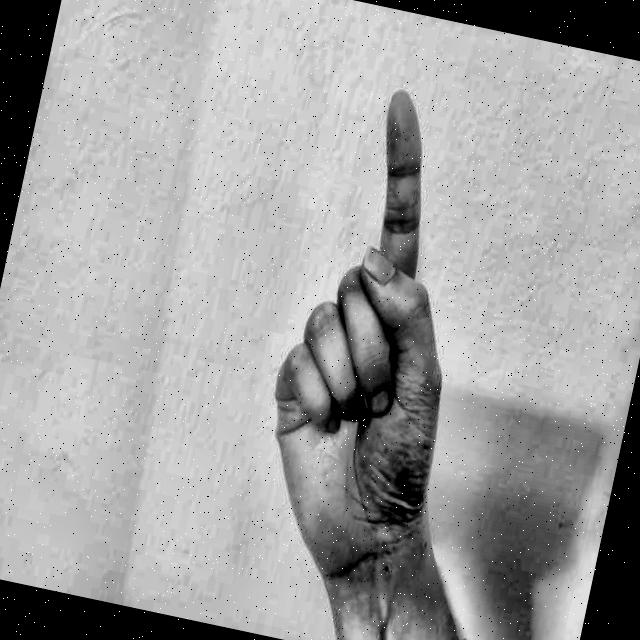U: (208, 39, 562, 594)
